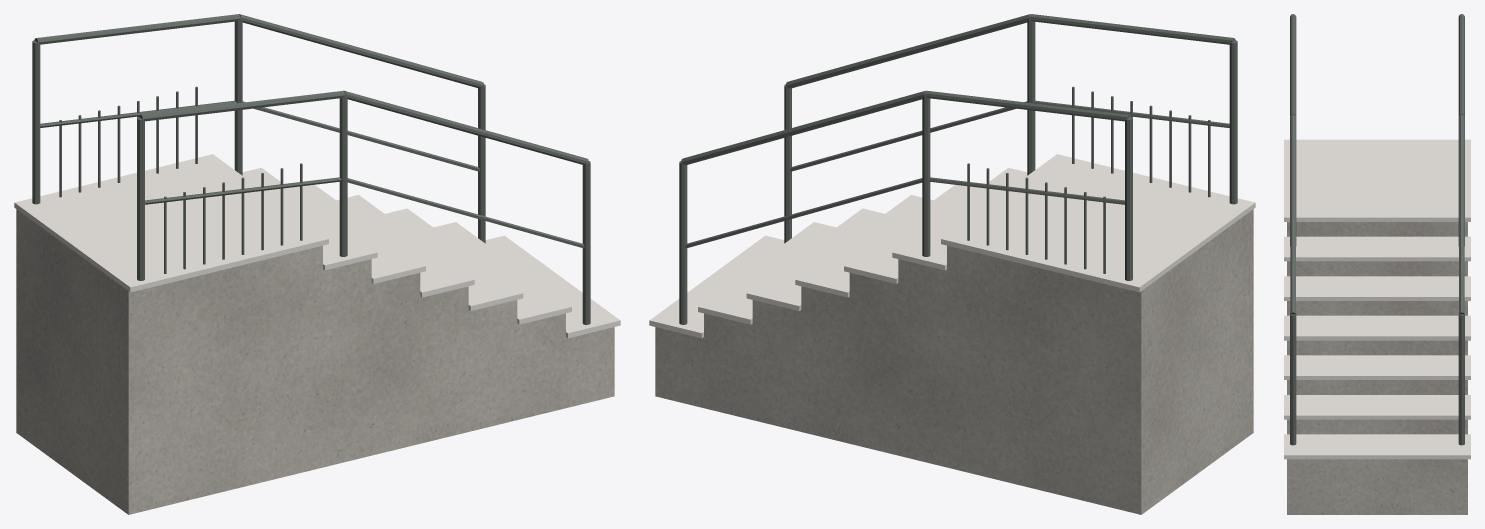
The model's file is bs_stairs.glb.
3 renders of one model, left to right at view 1: azimuth 30°, elevation 25°; view 2: azimuth 150°, elevation 25°; view 3: azimuth 270°, elevation 25°, orthographic. The views are drawn at different scales.
Visible parts, largest first — view 1: bs_stairs_concrete, bs_stairs_coping, bs_stairs_iron; view 2: bs_stairs_concrete, bs_stairs_coping, bs_stairs_iron; view 3: bs_stairs_coping, bs_stairs_concrete, bs_stairs_iron.
Part boxes in pixels (x1,y1,x2,y2): bs_stairs_concrete: (16,209,614,514); bs_stairs_coping: (14,154,620,338); bs_stairs_iron: (32,14,590,324); bs_stairs_concrete: (655,209,1253,514); bs_stairs_coping: (649,154,1255,338); bs_stairs_iron: (679,14,1237,324); bs_stairs_coping: (1284,139,1470,459); bs_stairs_concrete: (1287,222,1467,514); bs_stairs_iron: (1290,14,1464,445).
Bounding box in the file's own units: 3.02 × 2.32 × 1.24.
3 materials, 1 textured.
